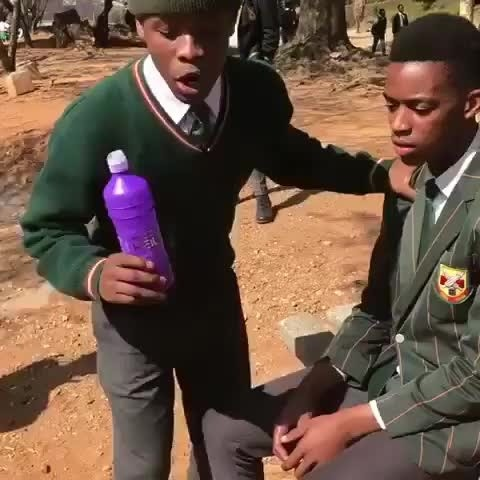face_no_mask: (380, 12, 478, 166), (134, 2, 239, 107)
